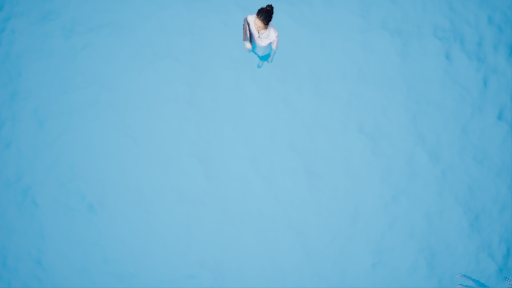person: (229, 6, 285, 71)
